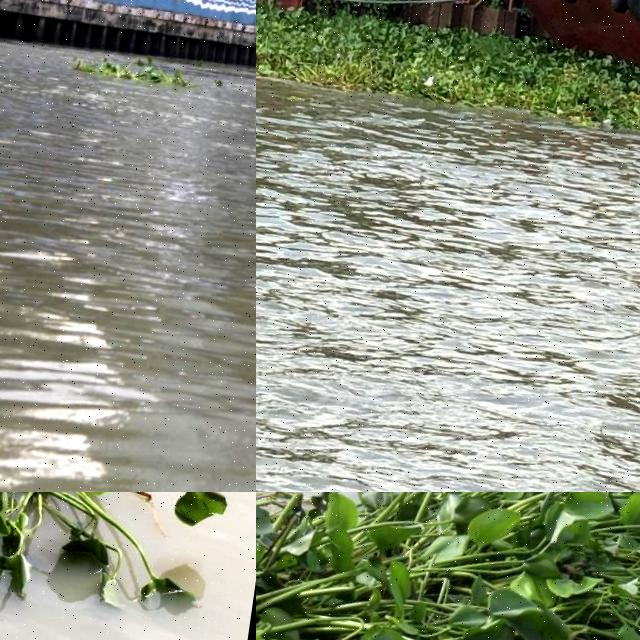water-hyacinth: (257, 493, 640, 638), (257, 1, 640, 126), (1, 493, 226, 610), (66, 46, 206, 96)
